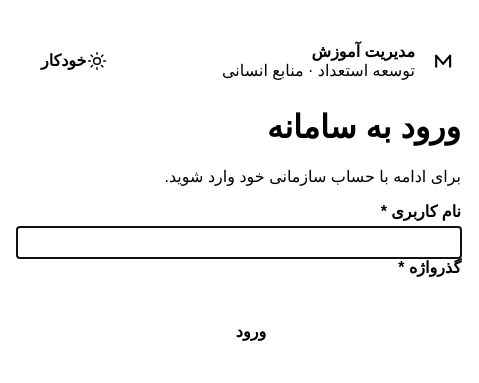
Test: form validation (login) › shows inline Persian errors for empty fields and links them with aria
Click the button "ورود" at (251, 332), box [41,314,461,350]
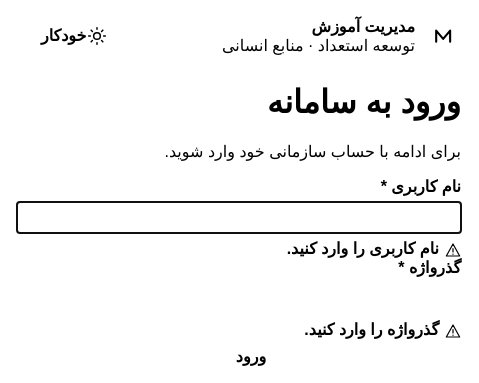
Result: the text "نام کاربری را وارد کنید." is shown at [287,240,461,258]
Result: the text "گذرواژه را وارد کنید." is shown at [304,321,461,339]
